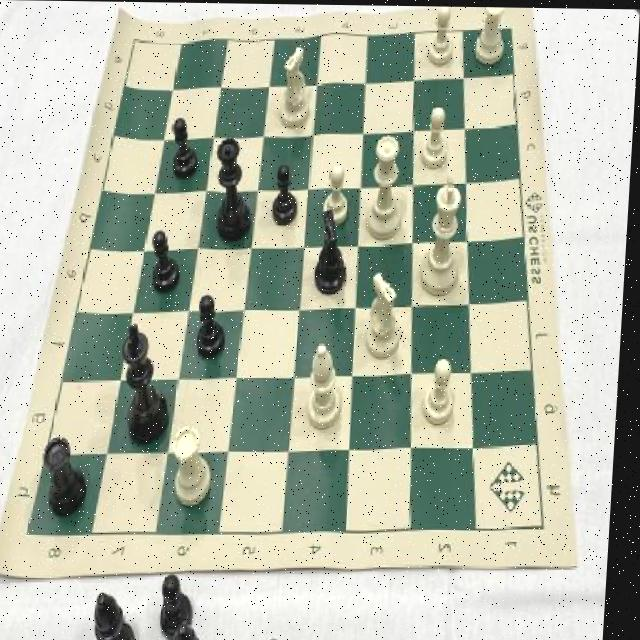black-bishop: (119, 322, 177, 453)
black-king: (314, 208, 355, 295)
black-knight: (197, 292, 234, 360), (152, 228, 188, 295), (271, 160, 307, 226), (169, 115, 202, 182)
black-pawn: (212, 138, 257, 246)
black-queen: (46, 433, 98, 521)
black-rook: (309, 341, 352, 433)
white-bishop: (419, 171, 471, 296)
white-king: (365, 268, 408, 360)
white-knight: (424, 354, 464, 427), (420, 102, 452, 169), (323, 161, 356, 225), (426, 5, 459, 67)
white-pawn: (366, 129, 412, 241)
white-queen: (174, 418, 222, 512), (471, 6, 511, 68)
